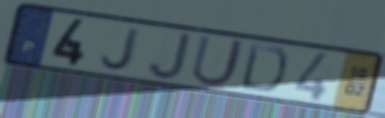4: (291, 49, 332, 104), (49, 18, 88, 68)
D: (237, 41, 291, 95)
J: (146, 31, 194, 82), (99, 26, 144, 72)
U: (188, 33, 249, 89)
